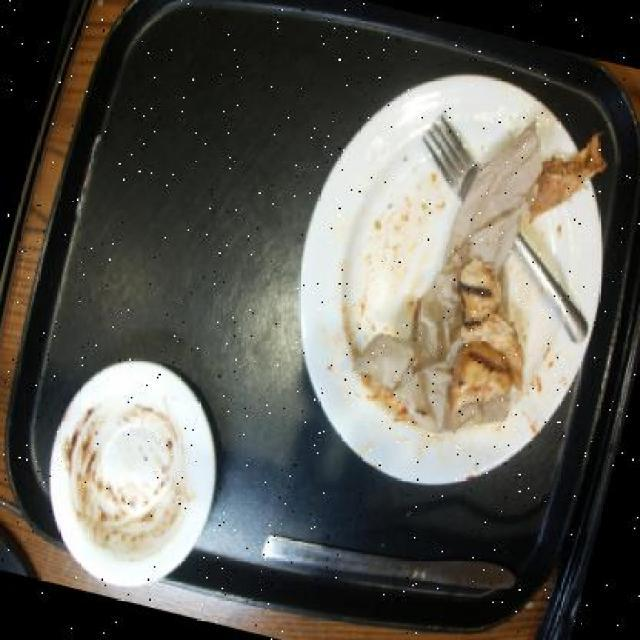Anorganik: (249, 40, 640, 523), (17, 338, 246, 609), (423, 115, 589, 343)
Organik: (515, 108, 623, 240), (435, 304, 539, 433), (443, 246, 517, 340)
